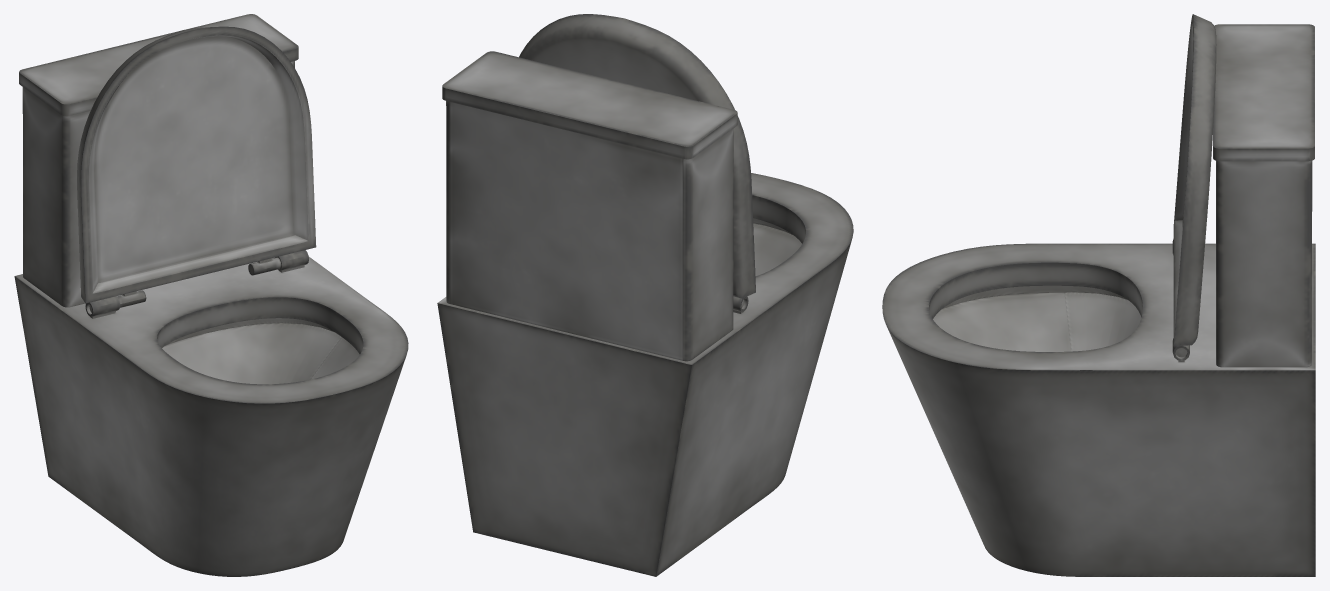
3 views of the same model, side by side, from view 1: azimuth 30°, elevation 25°; view 2: azimuth 150°, elevation 25°; view 3: azimuth 270°, elevation 25° (orthographic). The views are drawn at different scales.
Visible parts, largest first — view 1: Prison Toilet, Prison Toilet Lid; view 2: Prison Toilet, Prison Toilet Lid; view 3: Prison Toilet, Prison Toilet Lid.
Boxes of the visible parts, x1,y1,x2,y2 form: Prison Toilet: (14,14,408,576); Prison Toilet Lid: (77,26,316,307); Prison Toilet: (437,51,853,576); Prison Toilet Lid: (519,14,755,298); Prison Toilet: (882,24,1315,576); Prison Toilet Lid: (1173,14,1216,346).
Bounding box in the file's own units: 0.4766 × 0.8818 × 0.6897.
1 material, 1 textured.
